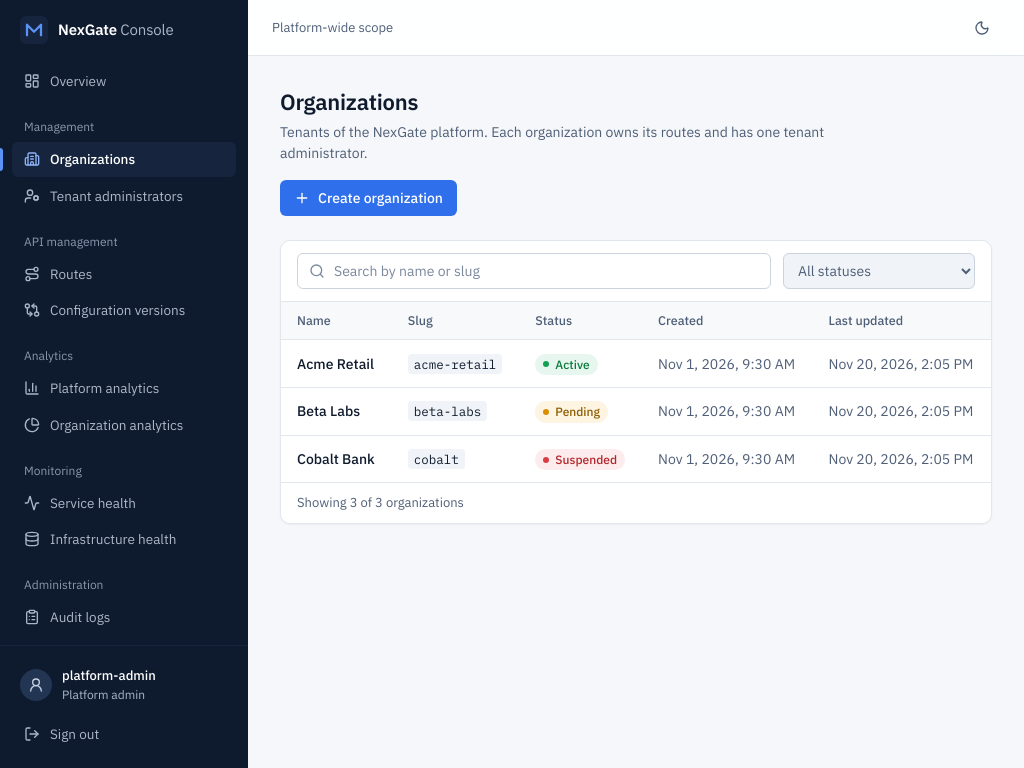
Scenario: organizations page › blocks an invalid slug client-side and shows a server conflict on the right field
Click the button "Create organization" at [368, 198], box 280,180 -> 457,216
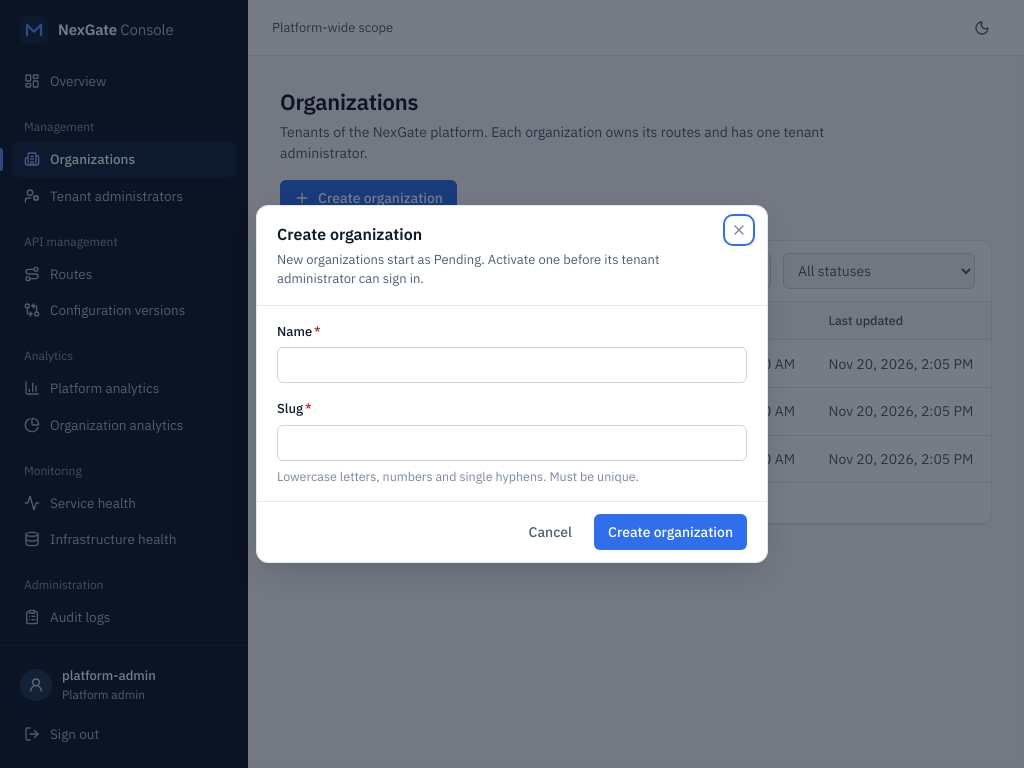
Type "Acme Two" into the field labelled "Name*" at [512, 365], box 277,347 -> 747,383
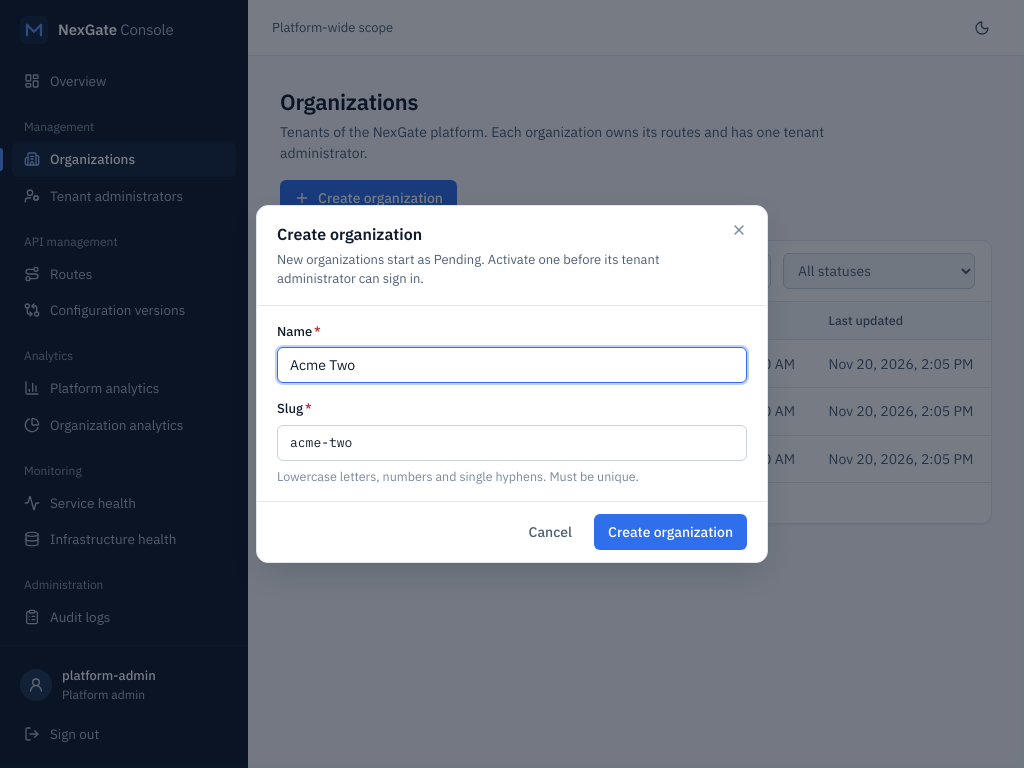
Replace the text in the field labelled "Slug*" with "Bad Slug" at [512, 443], box 277,425 -> 747,461
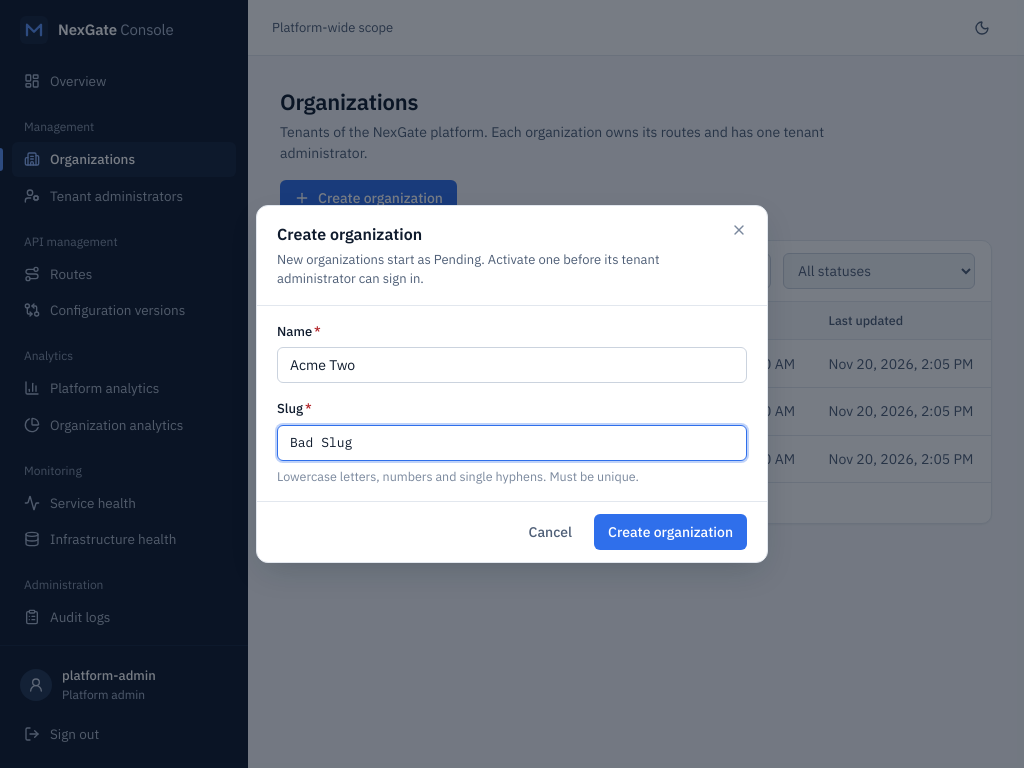
Click the button "Create organization" at [670, 532], box 594,514 -> 747,550
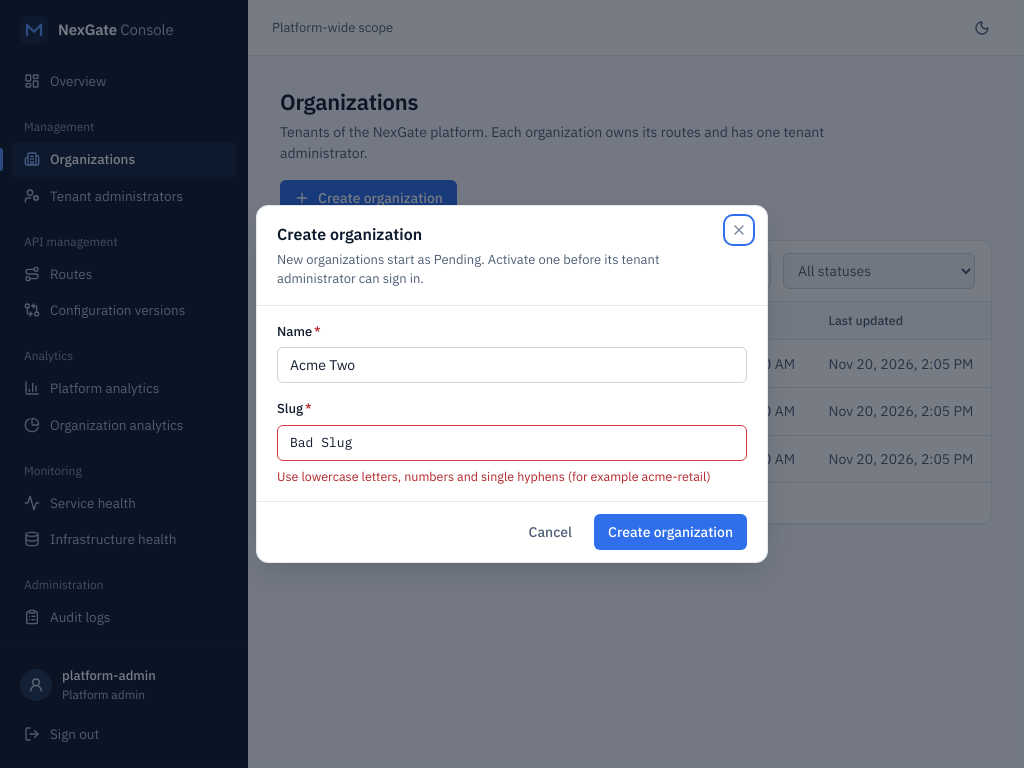
Expected: the text "Use lowercase letters, numbers and single hyphens (for example acme-retail)" is shown, 277,467 -> 747,485
Replace the text in the field labelled "Slug*" with "acme-retail" at [512, 443], box 277,425 -> 747,461
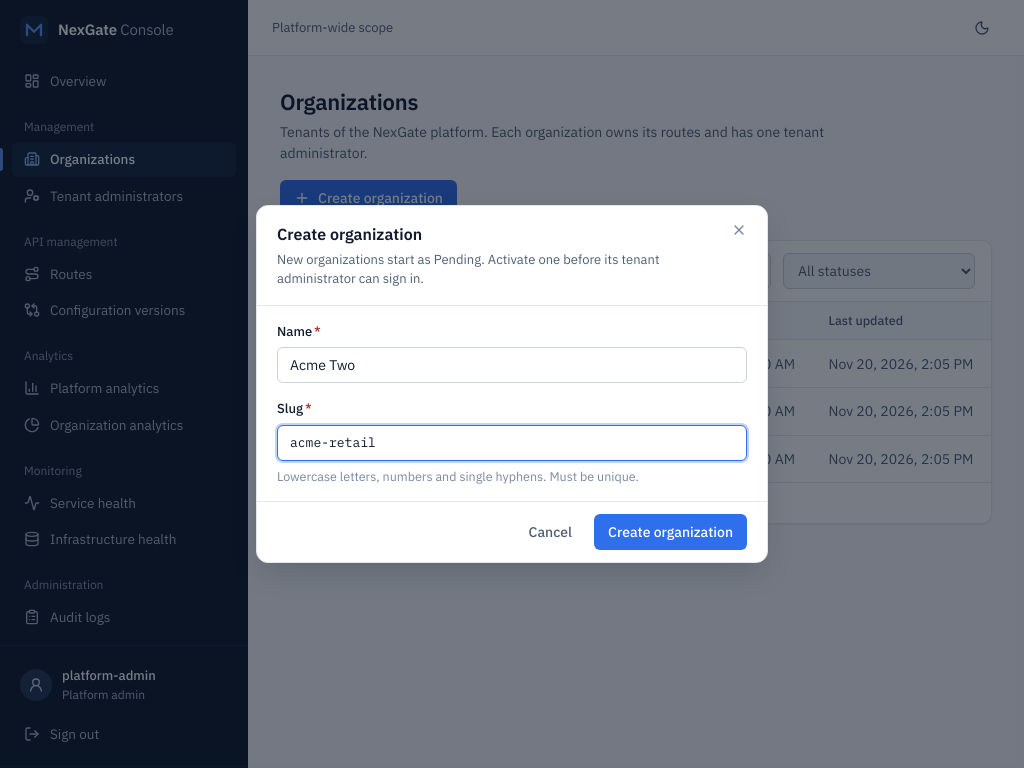
Click the button "Create organization" at [670, 532], box 594,514 -> 747,550
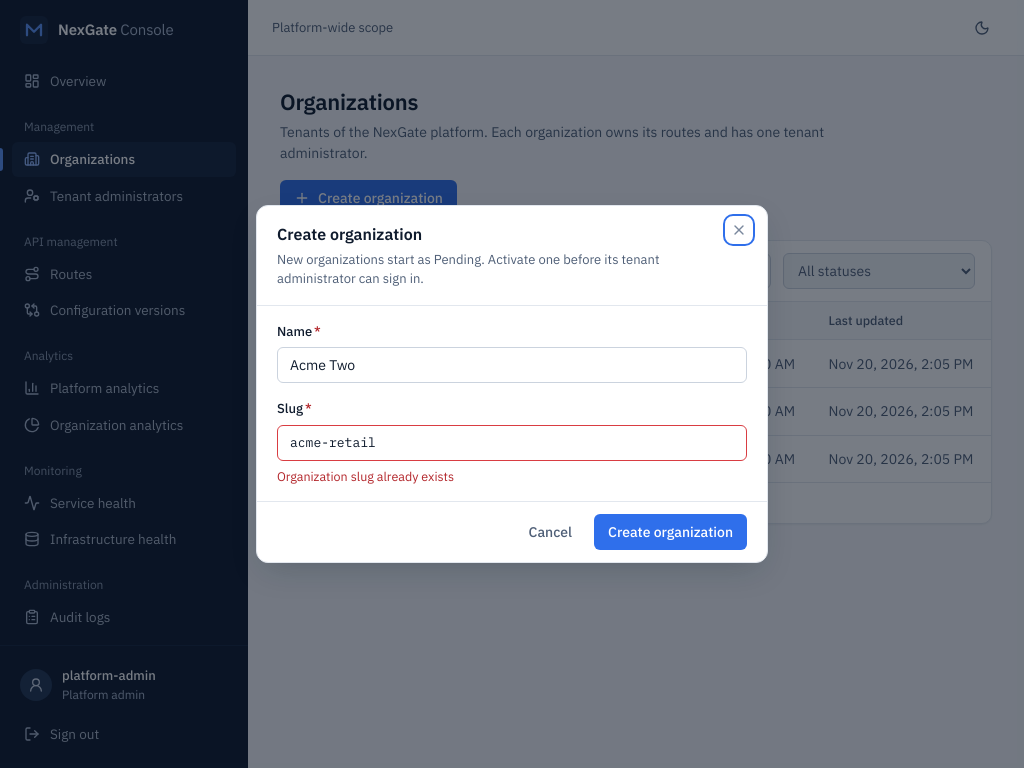
Expected: the text "Organization slug already exists" is shown, 277,468 -> 454,484
